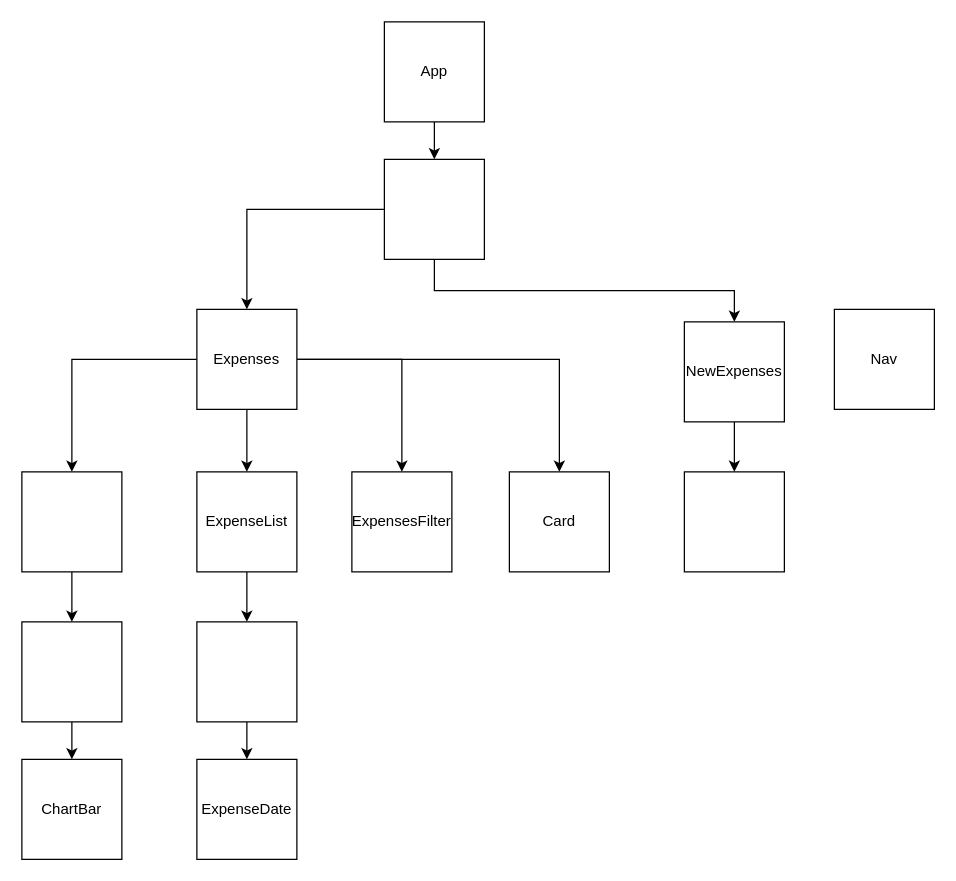
This 956x881 diagram has some shape labels left out. The centre of each missing label's shape, as x and y in pixels:
Chart: [71,671]
Components: [433,208]
ExpenseChart: [71,521]
ExpenseForm: [733,521]
ExpenseItem: [246,671]
